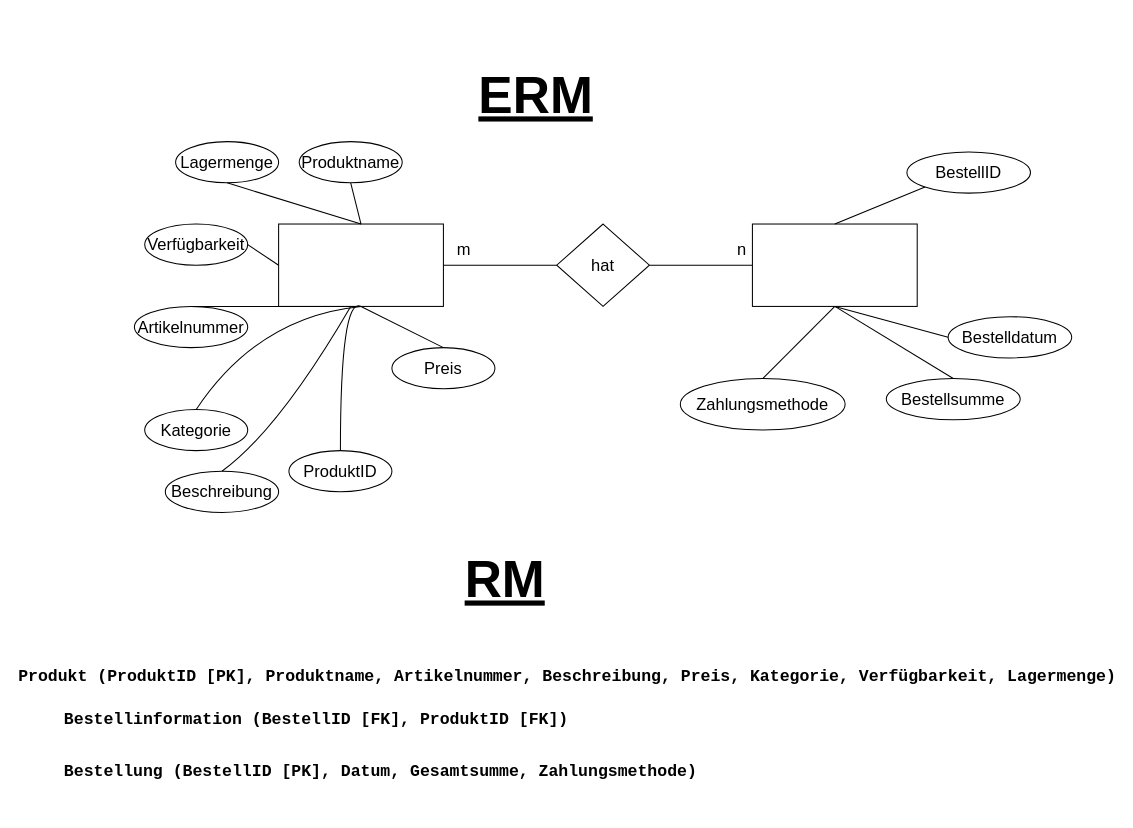
Some shapes in this 1133 by 828 pixel diagram are drawn without their labels. Here are the shapes that lost their labels. From the top down, the centre of each, then its label:
At [360,264]: "Produkt".
At [834,264]: "Bestellung".
